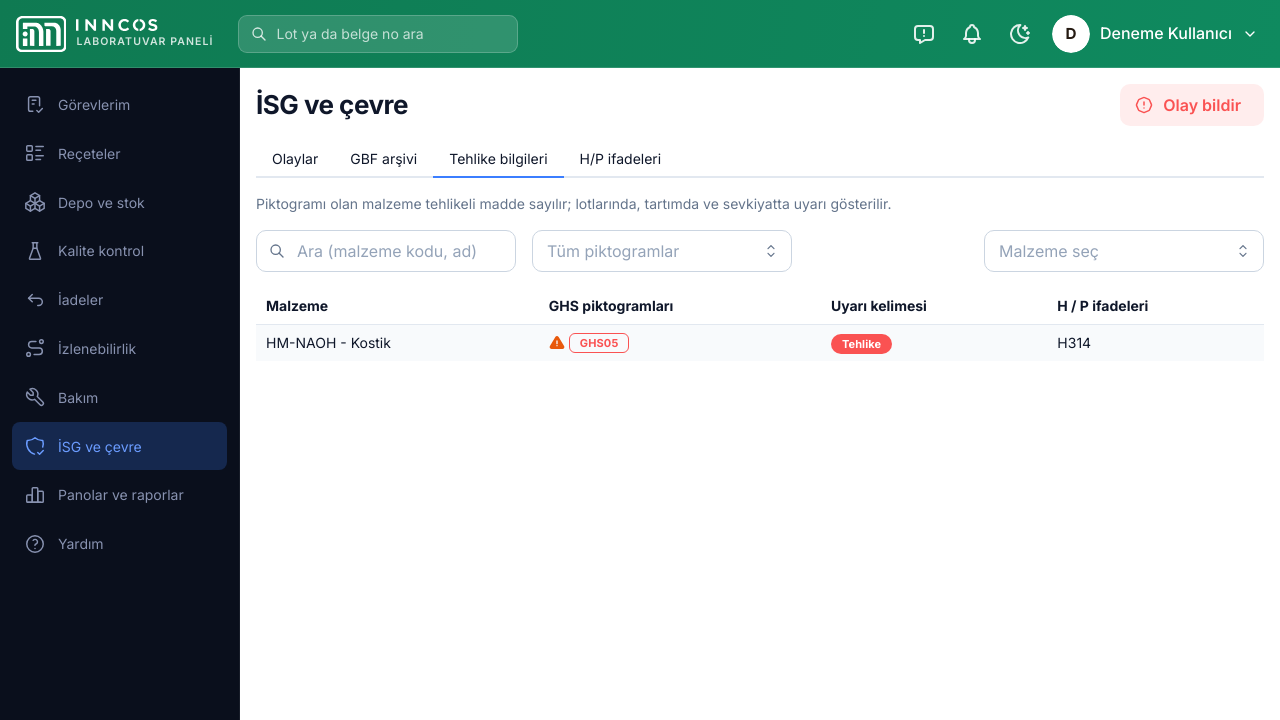
malzeme tehlike bilgisi › laboratuvar İSG tehlike bilgileri sekmesinden düzenleyebilir
This screenshot has width=1280, height=720.
Click the text "HM-NAOH - Kostik" at [328, 343], box top-left (256, 324), bottom-right (539, 361)
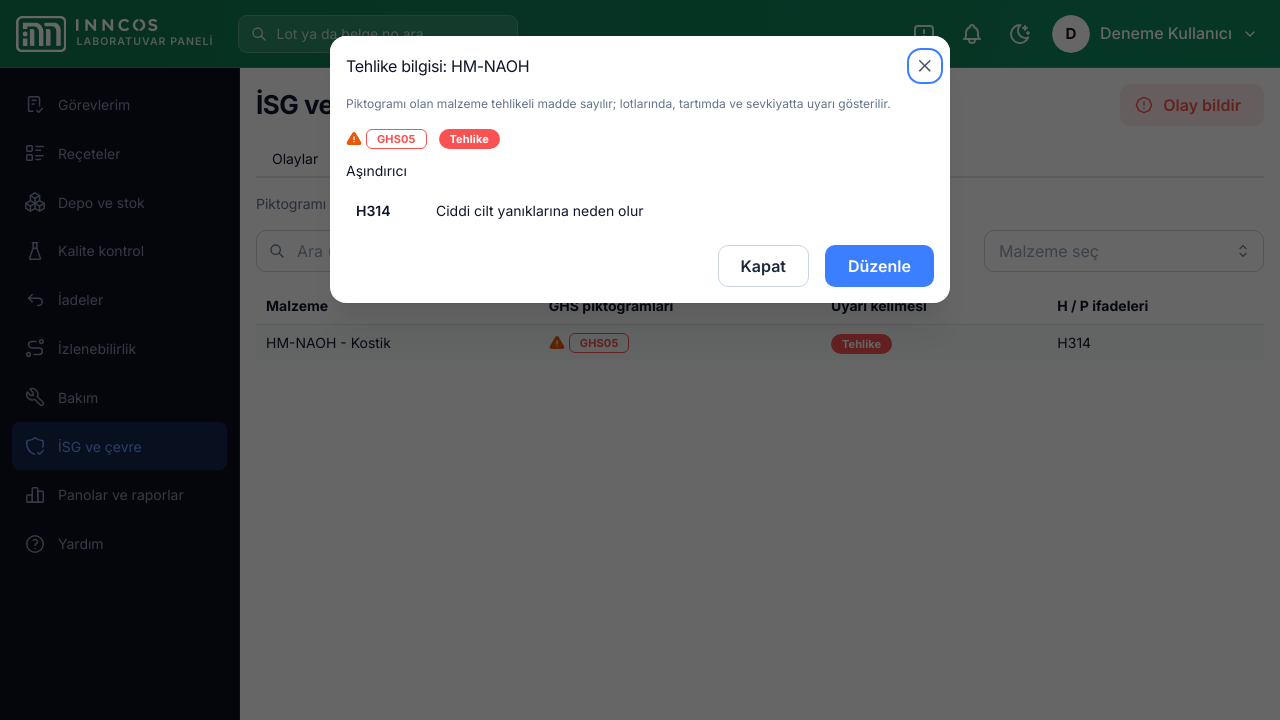
Expected: the button "Düzenle" is shown, top-left (825, 245), bottom-right (934, 287)
